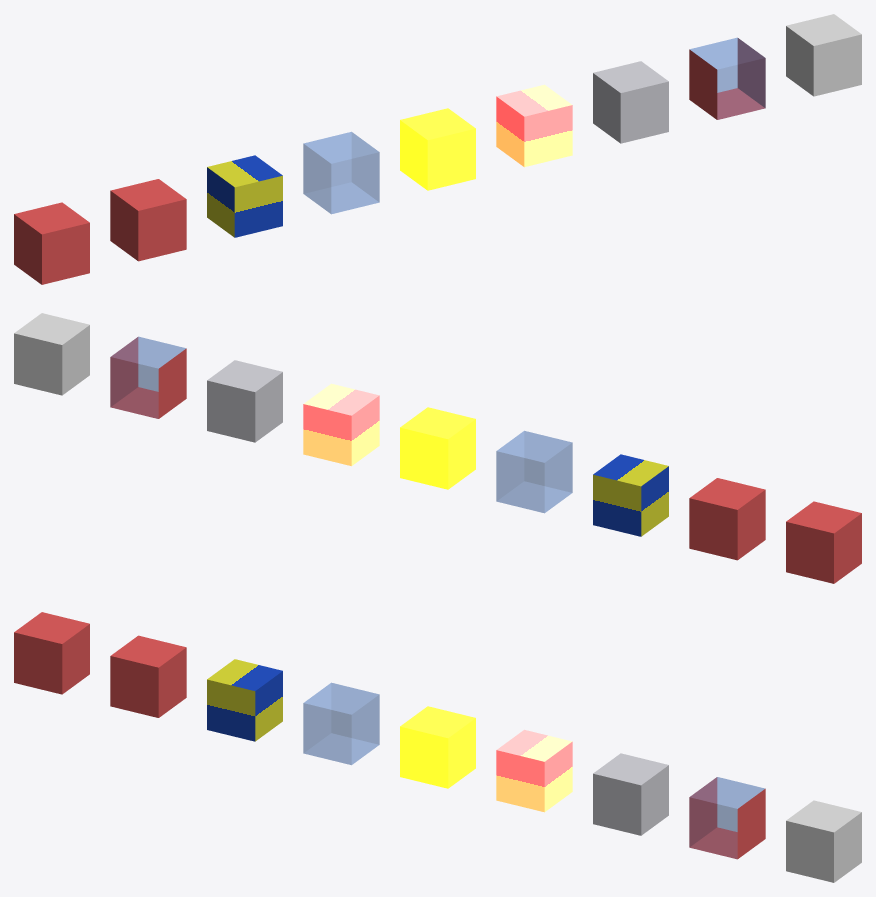
The model's file is MaterialsExternal.fbx.
3 renders of one model, top to bottom at view 1: azimuth 30°, elevation 25°; view 2: azimuth 150°, elevation 25°; view 3: azimuth 330°, elevation 25°, orthographic.
Parts seen in each view (by area): view 1: Cube_EmitTex, Cube_Shared, Cube_Multi, Cube_Alpha, Cube_Metal, Cube_NoMat, Cube_Red, Cube_Tex, Cube_Emit; view 2: Cube_EmitTex, Cube_Shared, Cube_Multi, Cube_Alpha, Cube_Metal, Cube_NoMat, Cube_Red, Cube_Tex, Cube_Emit; view 3: Cube_EmitTex, Cube_Shared, Cube_Multi, Cube_Alpha, Cube_Metal, Cube_NoMat, Cube_Red, Cube_Tex, Cube_Emit.
Part boxes in pixels (x1,y1,x2,y2): Cube_EmitTex: (496,84,572,167); Cube_Shared: (110,179,186,261); Cube_Multi: (689,37,765,119); Cube_Alpha: (303,132,379,214); Cube_Metal: (593,61,668,143); Cube_NoMat: (786,14,861,96); Cube_Red: (14,202,89,284); Cube_Tex: (207,155,282,237); Cube_Emit: (400,108,475,190); Cube_EmitTex: (303,383,379,466); Cube_Shared: (689,478,765,560); Cube_Multi: (110,336,186,418); Cube_Alpha: (496,431,572,513); Cube_Metal: (207,360,282,442); Cube_NoMat: (14,313,89,395); Cube_Red: (786,501,861,583); Cube_Tex: (593,454,668,536); Cube_Emit: (400,407,475,489); Cube_EmitTex: (496,729,572,812); Cube_Shared: (110,635,186,717); Cube_Multi: (689,777,765,859); Cube_Alpha: (303,682,379,764); Cube_Metal: (593,753,668,835); Cube_NoMat: (786,800,861,882); Cube_Red: (14,612,89,694); Cube_Tex: (207,659,282,741); Cube_Emit: (400,706,475,788).
Size of the model in its own units: 1700 by 100 by 100.
